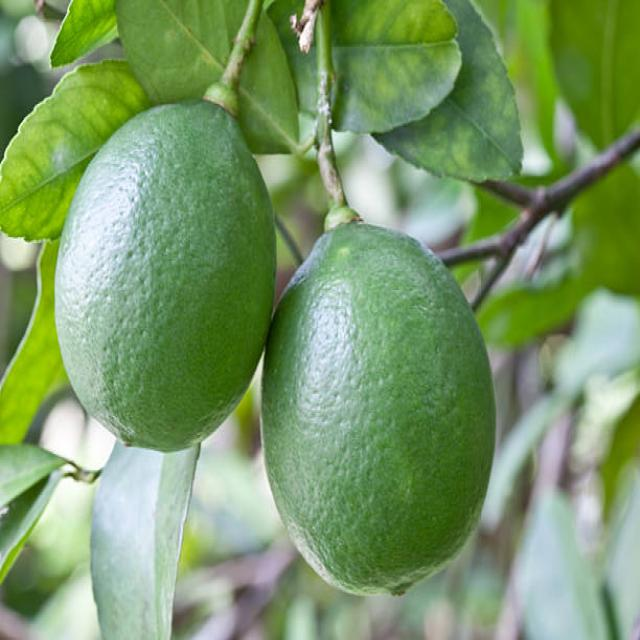Unripe: (262, 219, 497, 597), (54, 100, 278, 454)
